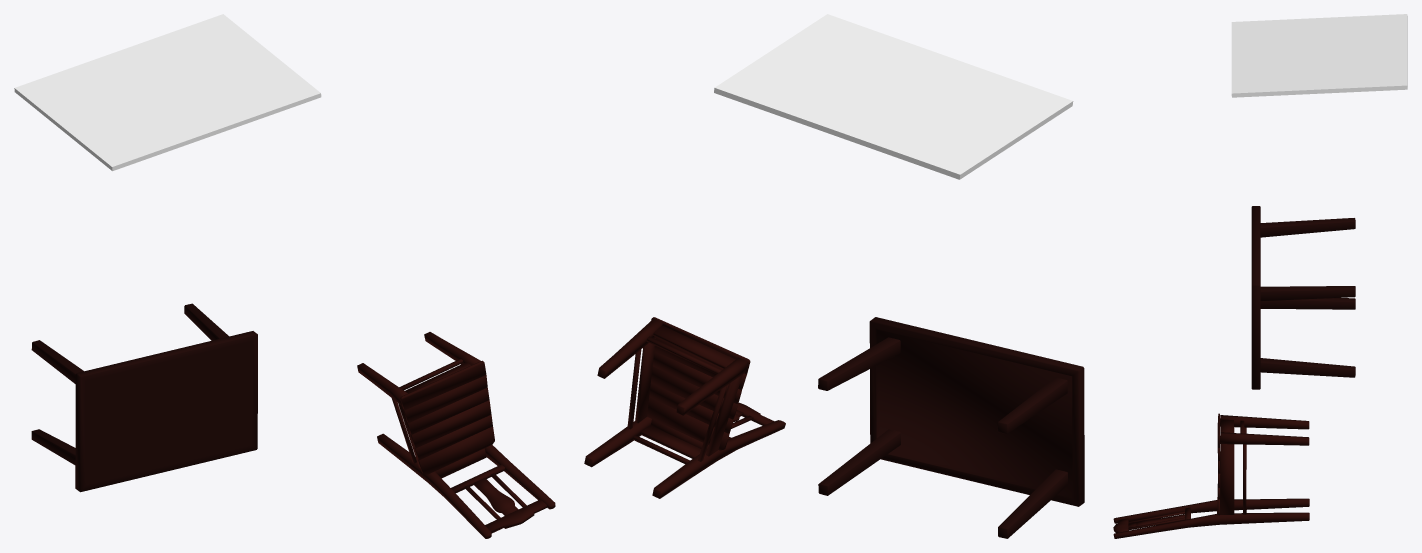
3 renders of one model, left to right at view 1: azimuth 30°, elevation 25°; view 2: azimuth 150°, elevation 25°; view 3: azimuth 270°, elevation 25°, orthographic. The views are drawn at different scales.
Visible parts, largest first — view 1: glass_window_01, diffuse_table_01, diffuse_chair_02; view 2: diffuse_table_01, glass_window_01, diffuse_chair_02; view 3: glass_window_01, diffuse_chair_02, diffuse_table_01.
Boxes of the visible parts, bbox=[...] form: glass_window_01: bbox=[14, 14, 321, 171]; diffuse_table_01: bbox=[31, 303, 257, 492]; diffuse_chair_02: bbox=[357, 332, 555, 538]; diffuse_table_01: bbox=[818, 317, 1084, 538]; glass_window_01: bbox=[714, 14, 1073, 179]; diffuse_chair_02: bbox=[584, 317, 785, 498]; glass_window_01: bbox=[1231, 14, 1407, 97]; diffuse_chair_02: bbox=[1113, 413, 1309, 538]; diffuse_table_01: bbox=[1251, 206, 1355, 389].
Size of the model in its own units: 191 by 197 by 134.
